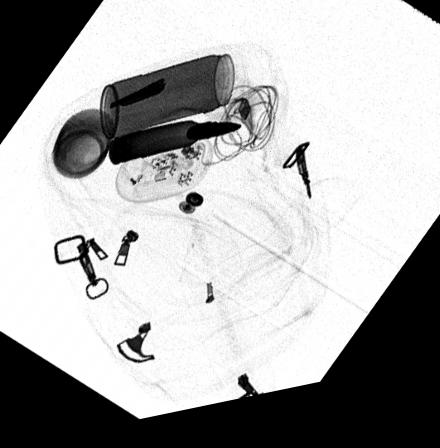Bullet: (106, 128, 243, 172)
